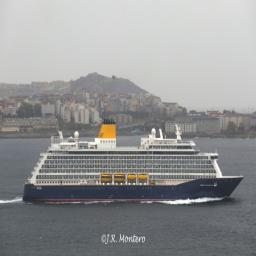cruises: (22, 121, 247, 207)
